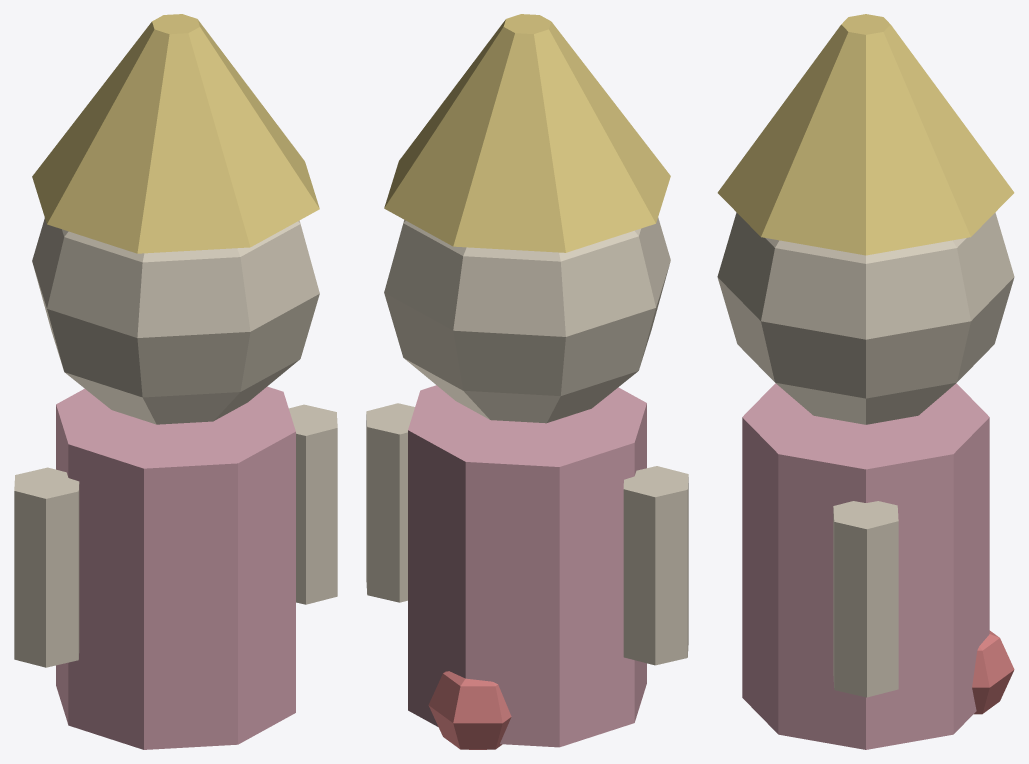
The model's file is kid_boneca2.glb.
The picture shows the model from 3 angles, left to right: view 1: azimuth 30°, elevation 25°; view 2: azimuth 150°, elevation 25°; view 3: azimuth 270°, elevation 25°; orthographic projection.
Parts seen in each view (by area): view 1: KID_BONECA2_v01; view 2: KID_BONECA2_v01; view 3: KID_BONECA2_v01.
Boxes of the visible parts, box(x1,y1,x2,y2) form: KID_BONECA2_v01: box(14, 14, 337, 749); KID_BONECA2_v01: box(366, 14, 688, 749); KID_BONECA2_v01: box(717, 14, 1014, 749).
Size of the model in its own units: 0.3 by 0.615 by 0.24.
